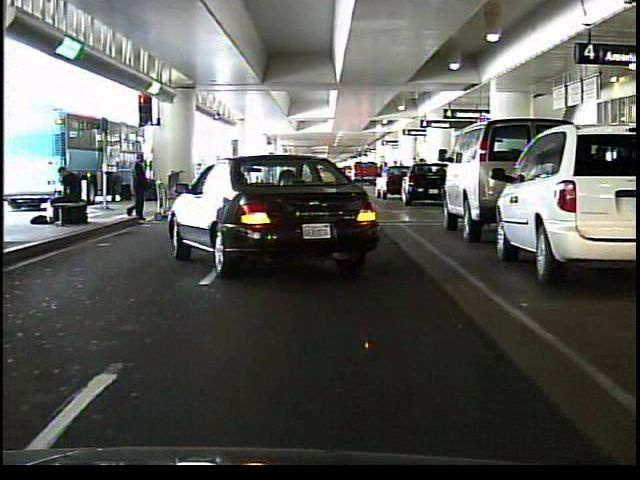person: (49, 164, 87, 232), (124, 149, 153, 228)
